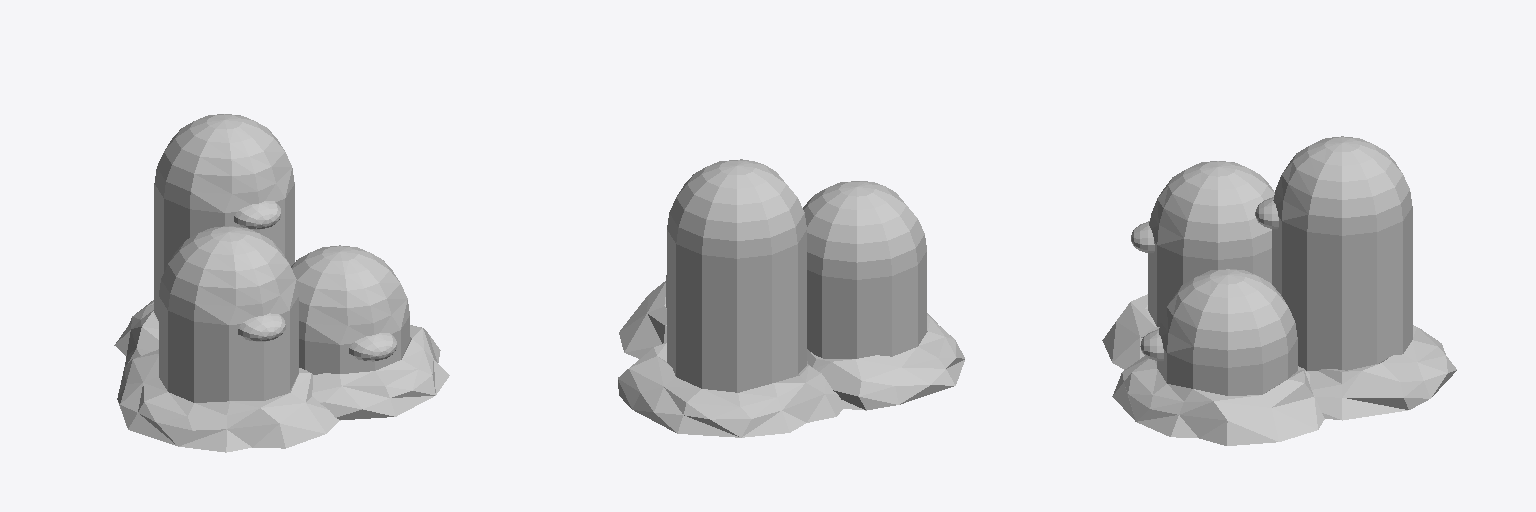
The model's file is Dugtrio.obj.
The picture shows the model from 3 angles: view 1: azimuth 30°, elevation 25°; view 2: azimuth 150°, elevation 25°; view 3: azimuth 270°, elevation 25°; orthographic projection.
Parts seen in each view (by area): view 1: polygon2, polygon1, polygon0; view 2: polygon2, polygon1; view 3: polygon2, polygon1, polygon0.
Part boxes in pixels (x1,y1,x2,y2): polygon2: (154,114,409,402); polygon1: (114,300,449,452); polygon0: (191,139,407,344); polygon2: (666,159,926,392); polygon1: (618,281,964,437); polygon2: (1131,136,1412,395); polygon1: (1102,294,1456,445); polygon0: (1149,155,1317,352).
Size of the model in its own units: 10.21 by 6.99 by 9.94.